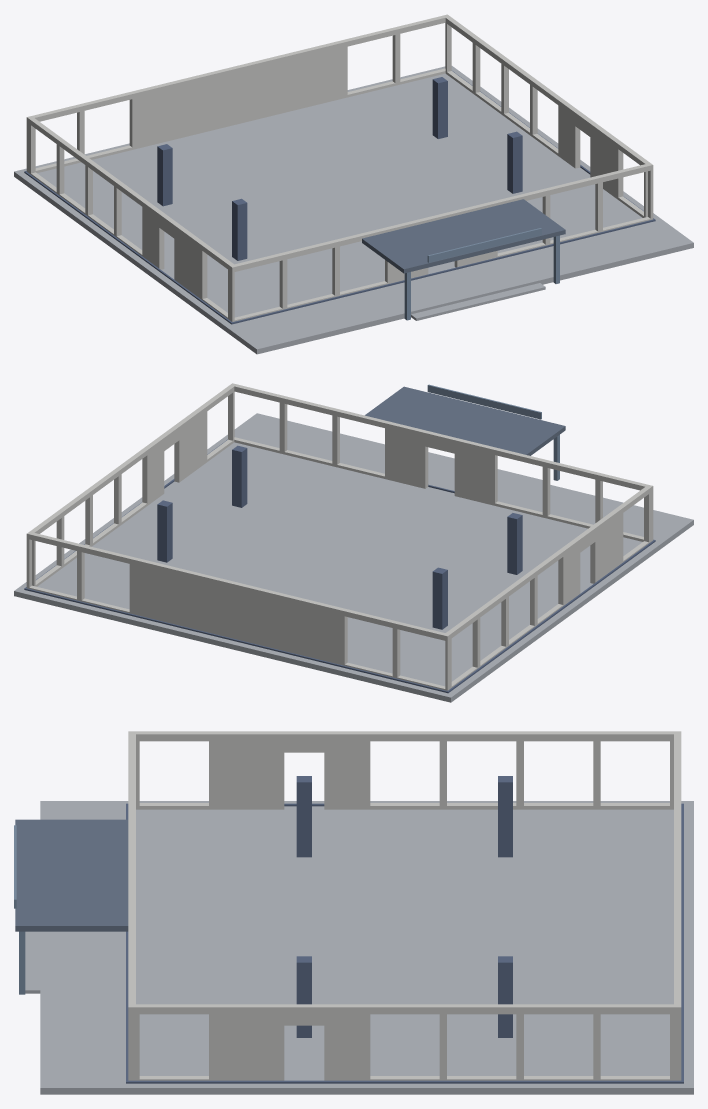
File: office-lobby.skyline-v2.lod1.glb
3 renders of one model, top to bottom at view 1: azimuth 30°, elevation 25°; view 2: azimuth 150°, elevation 25°; view 3: azimuth 270°, elevation 25°, orthographic. The views are drawn at different scales.
Parts seen in each view (by area): view 1: office-lobby; view 2: office-lobby; view 3: office-lobby.
Boxes of the visible parts, left/top/right/bottom form: office-lobby: left=14, top=14, right=693, bottom=354; office-lobby: left=14, top=383, right=693, bottom=702; office-lobby: left=14, top=731, right=693, bottom=1094.
Size of the model in its own units: 27 by 3.92 by 27.05.
